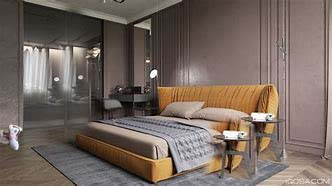copymove: (210, 122, 253, 176)
removal: (65, 50, 92, 94)
spliced: (1, 125, 21, 151)
